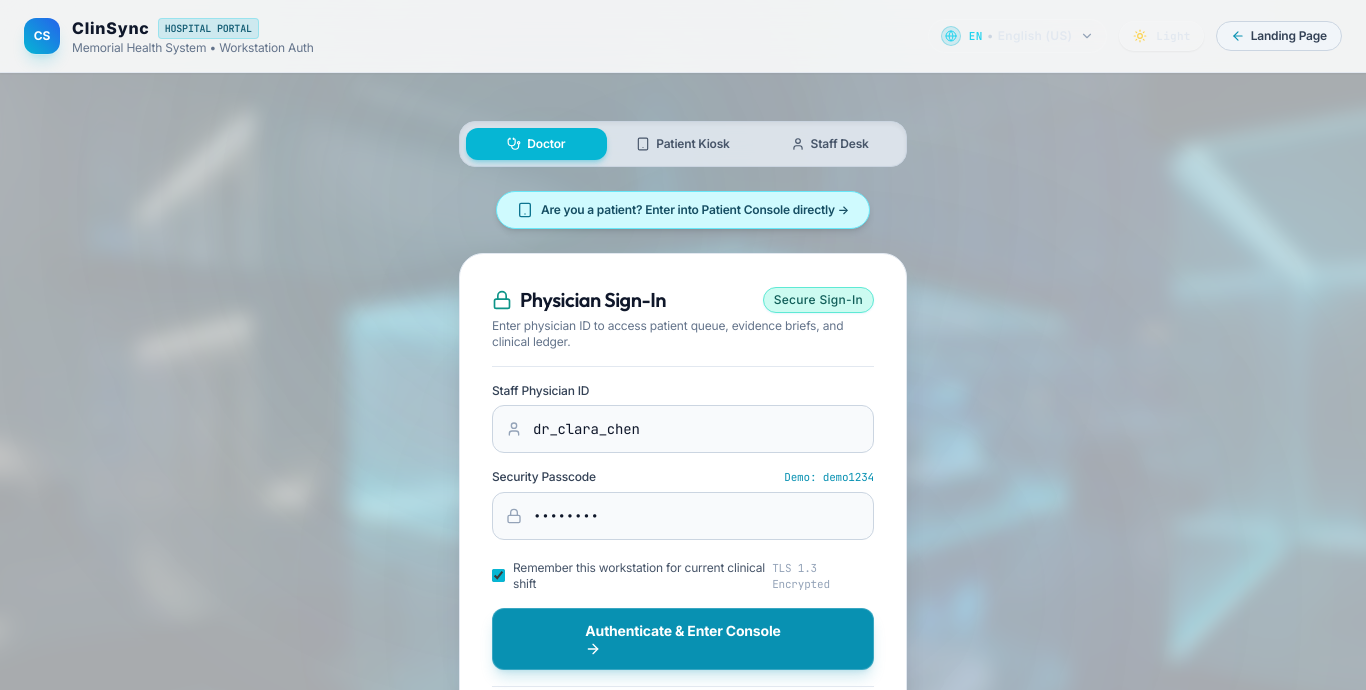
Scenario: LoginPage Component › switches between Doctor, Kiosk, and Staff roles
// Click Kiosk tab
Click the button with test id "role-tab-kiosk" at (683, 144), box [613,128,753,160]
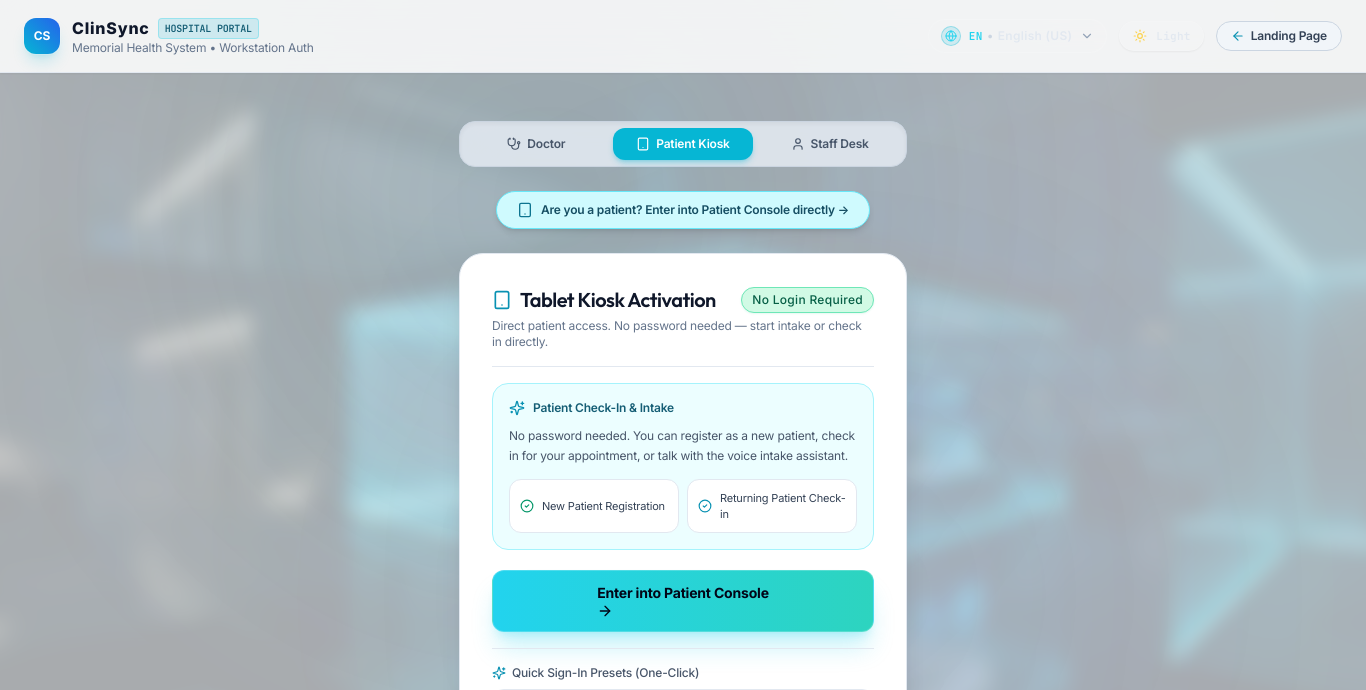
Check: the text "Tablet Kiosk Activation" is shown, box [520,286,716,314]
// Click Staff tab
Click the button with test id "role-tab-staff" at (830, 144), box [759,128,900,160]
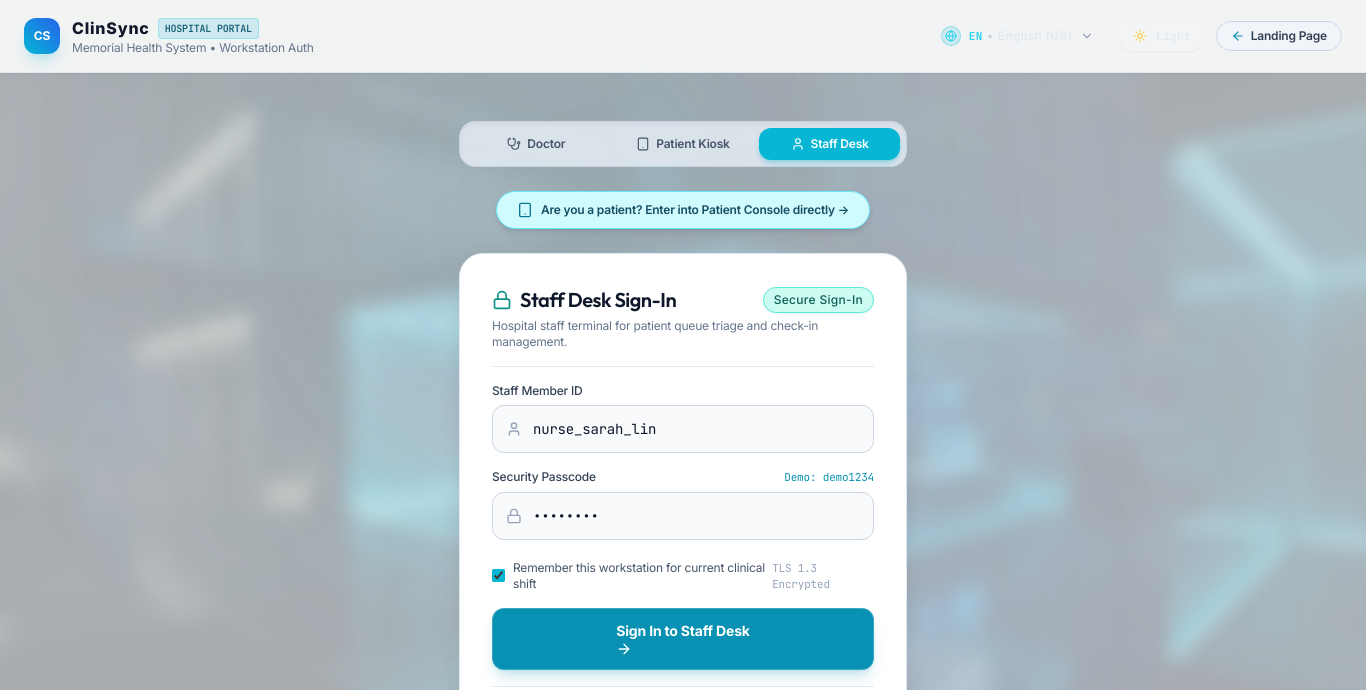
Check: the text "Staff Desk Sign-In" is shown, box [520,286,676,314]
// Click Doctor tab
Click the button with test id "role-tab-doctor" at (536, 144), box [466,128,607,160]
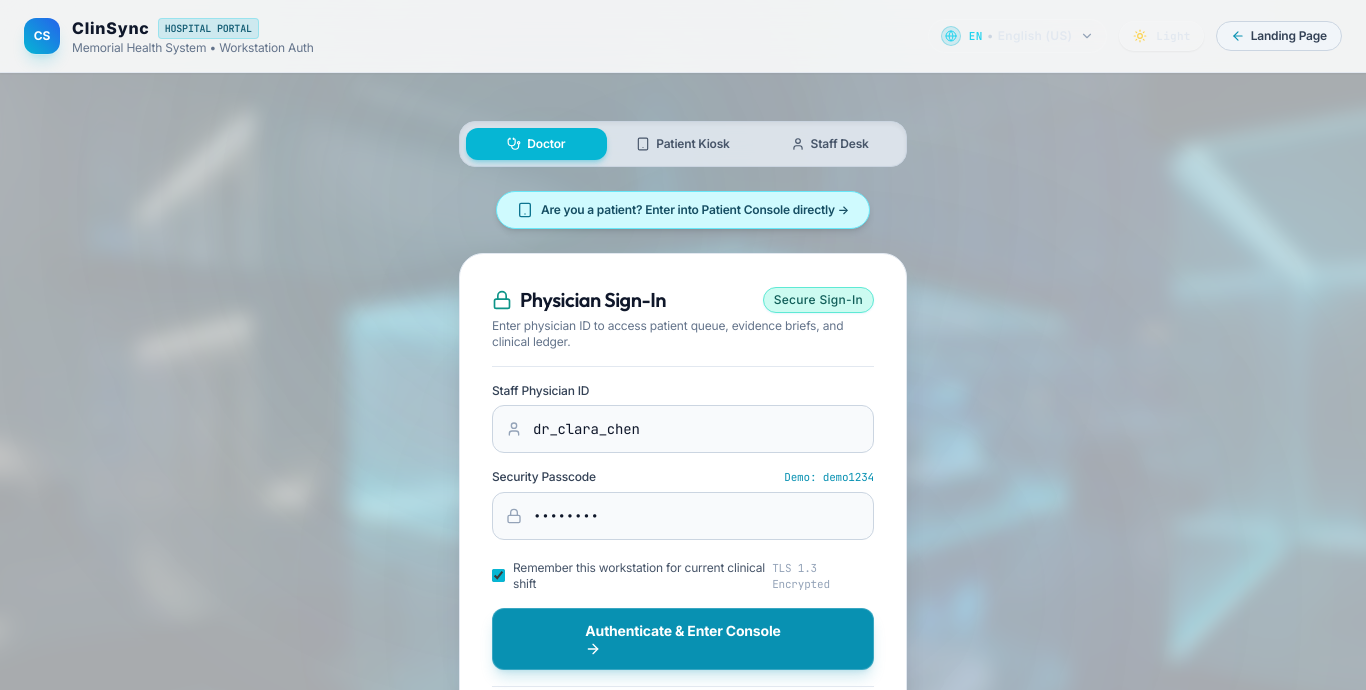
Check: the text "Physician Sign-In" is shown, box [520,286,666,314]
